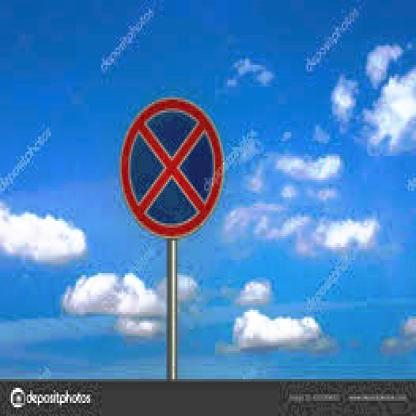No stopping: (117, 93, 228, 246)
